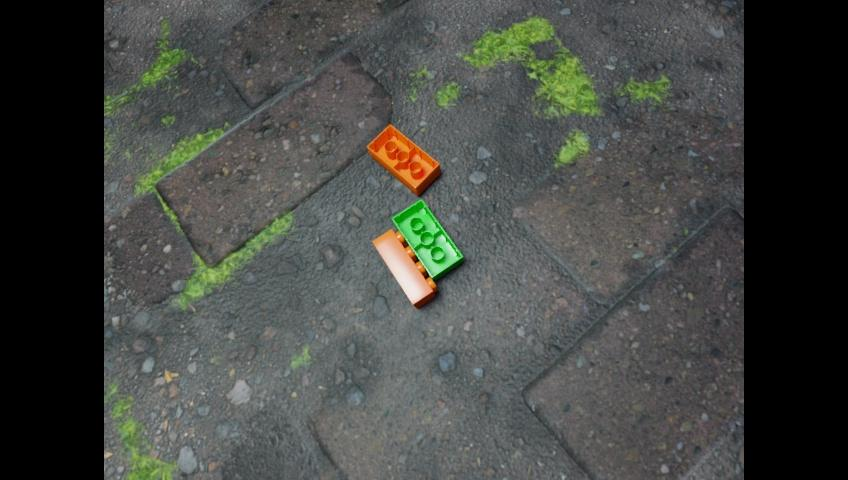4x2_green: (392, 199, 462, 281)
4x2_orange: (367, 124, 439, 195), (372, 229, 436, 308)
